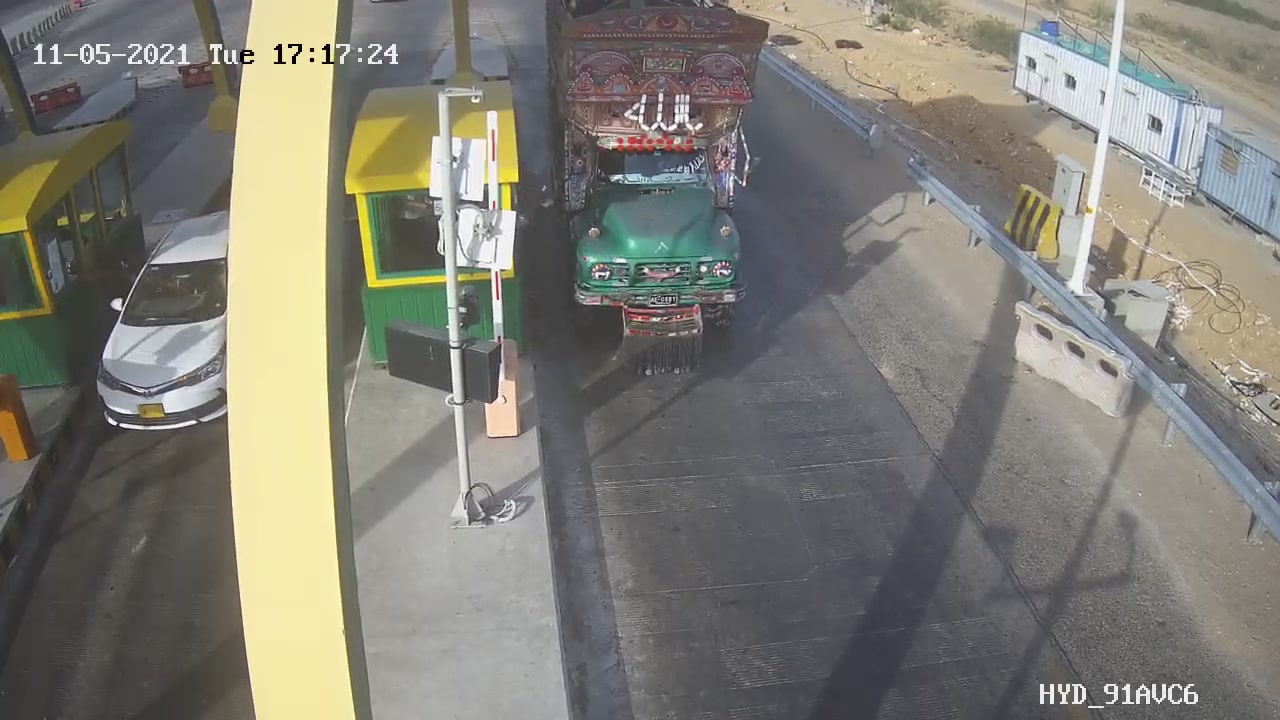F5: (530, 1, 792, 391)
